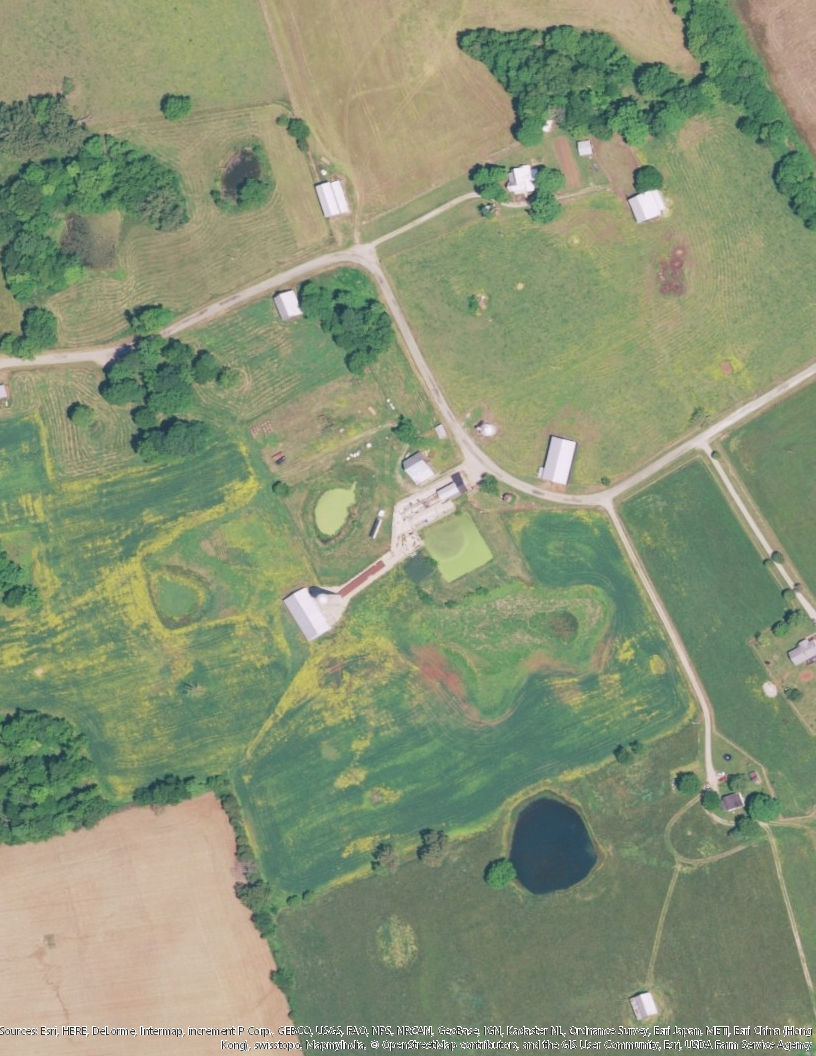cafo: (281, 584, 343, 644), (540, 432, 576, 499), (308, 177, 354, 222), (623, 182, 668, 226)
